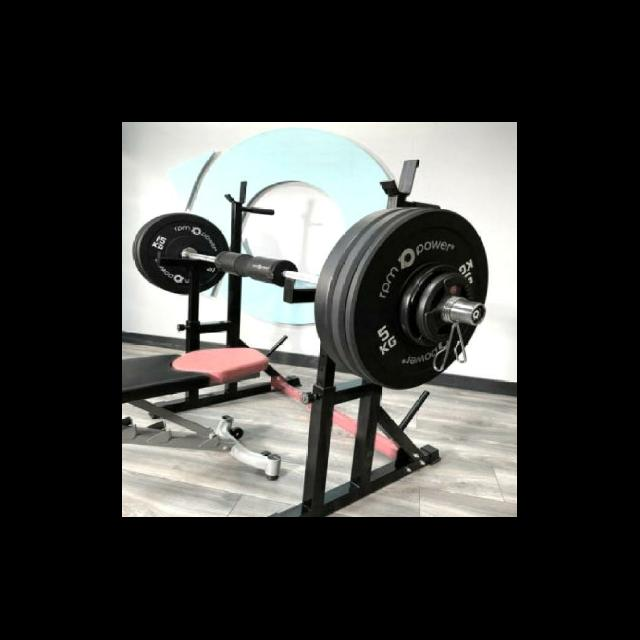barbell: (311, 202, 497, 391)
